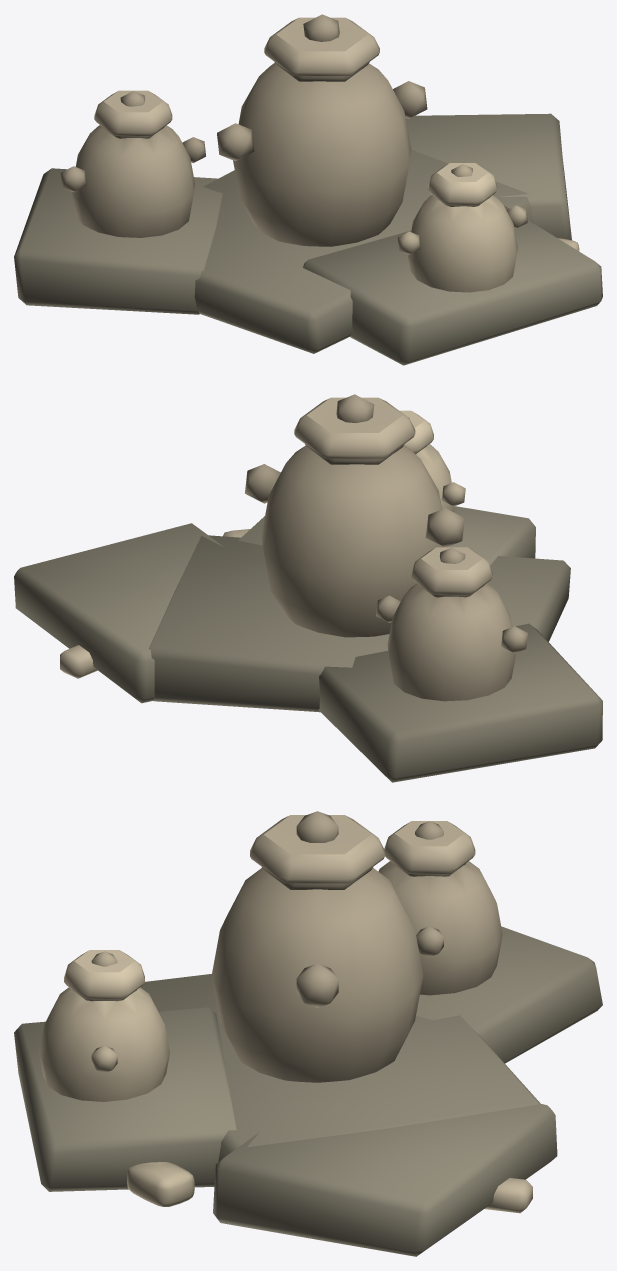
File: granary_jars_b.glb
The picture shows the model from 3 angles, top to bottom: view 1: azimuth 30°, elevation 25°; view 2: azimuth 150°, elevation 25°; view 3: azimuth 270°, elevation 25°; orthographic projection. The views are drawn at different scales.
Parts seen in each view (by area): view 1: Surface; view 2: Surface; view 3: Surface.
Part boxes in pixels (x1,y1,x2,y2): Surface: (14, 14, 602, 365); Surface: (14, 394, 602, 782); Surface: (14, 811, 602, 1256).
Size of the model in its own units: 3.33 by 1.46 by 2.63.
